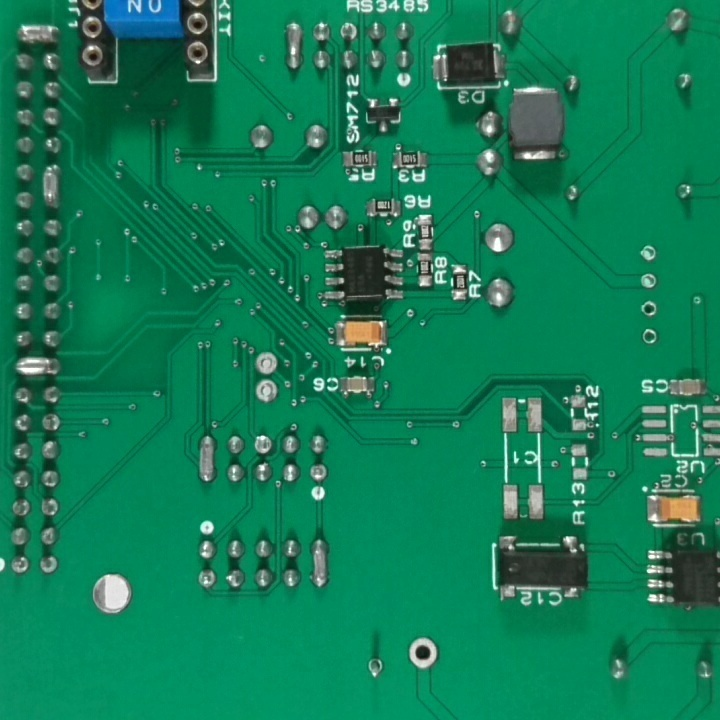F: (405, 634, 441, 672), (253, 345, 280, 378), (360, 656, 390, 683), (252, 378, 281, 405), (7, 552, 33, 579), (250, 432, 277, 458), (9, 495, 33, 523), (635, 266, 659, 294), (196, 566, 219, 595), (335, 19, 359, 46), (637, 297, 662, 322), (41, 412, 64, 438), (636, 240, 660, 264), (308, 461, 328, 486), (639, 326, 659, 348)
P: (306, 535, 338, 599), (8, 19, 70, 52), (6, 353, 67, 382), (282, 15, 307, 80), (196, 429, 223, 489), (39, 157, 66, 216)
